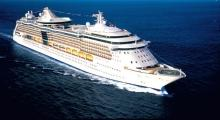youlun: (13, 7, 191, 97)
